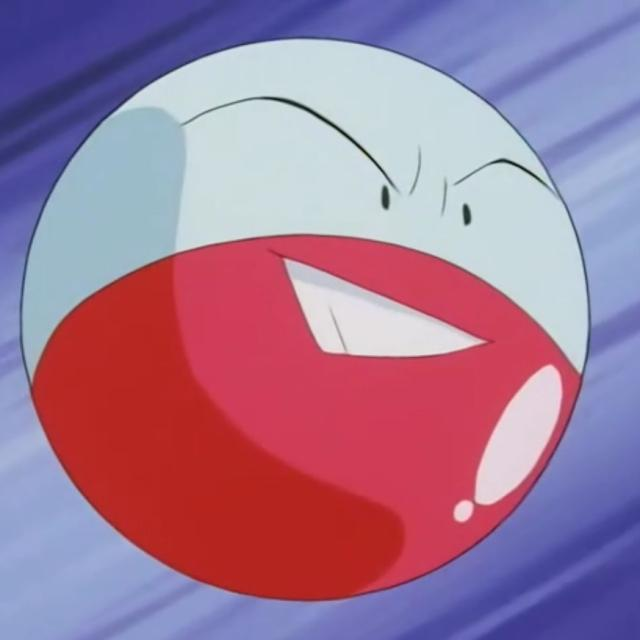Electrode: (19, 39, 596, 606)
